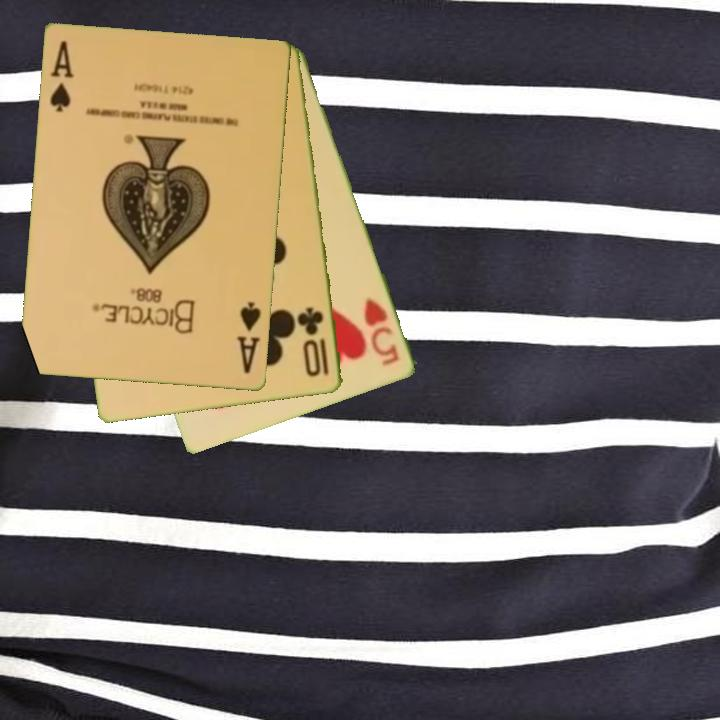10c: (296, 304, 332, 380)
5h: (360, 295, 403, 369)
As: (46, 38, 78, 116), (234, 299, 264, 377)
